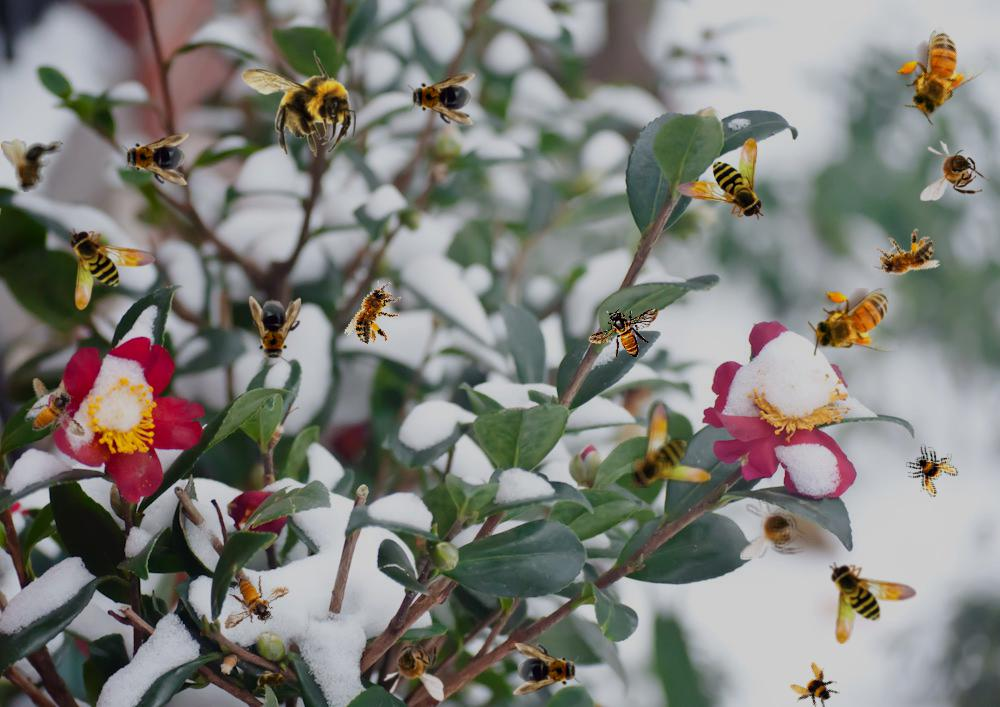Bee: (880, 16, 996, 131), (241, 50, 356, 157), (629, 402, 711, 490), (676, 138, 764, 220), (68, 228, 156, 310), (829, 562, 917, 644), (808, 288, 901, 356), (17, 368, 87, 451), (863, 223, 943, 290), (343, 273, 409, 352), (217, 570, 295, 631), (383, 631, 444, 701), (740, 499, 810, 560), (920, 140, 990, 201), (900, 437, 964, 501), (588, 308, 659, 358), (513, 643, 581, 695), (249, 296, 301, 364), (121, 133, 189, 185), (407, 73, 475, 125), (1, 139, 63, 192), (784, 658, 846, 707), (252, 670, 292, 692)
